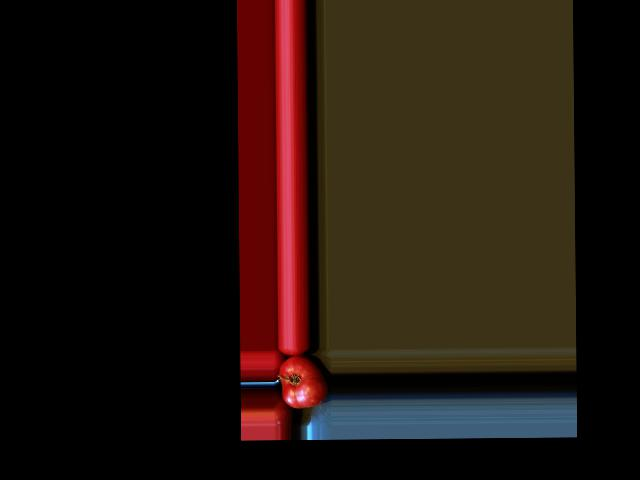tomato: (279, 355, 328, 408)
